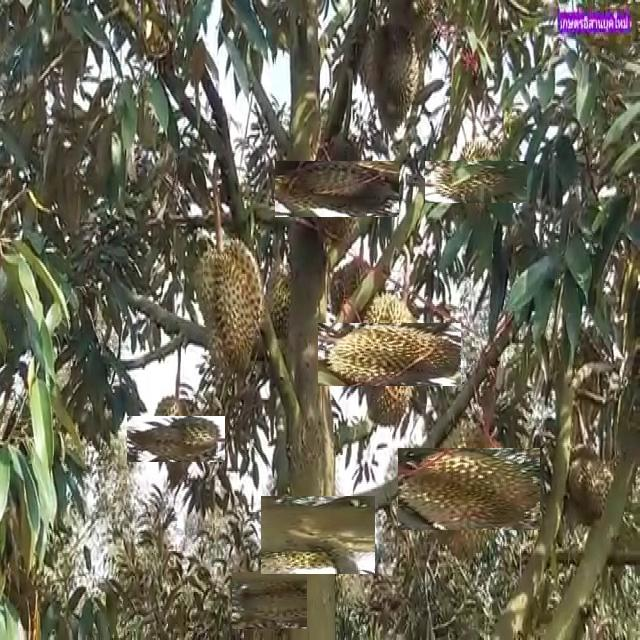durian: (413, 433, 526, 545), (192, 233, 264, 384), (338, 303, 441, 406), (270, 487, 366, 584), (292, 144, 382, 235), (360, 21, 423, 140), (140, 403, 212, 476), (440, 146, 513, 218), (237, 567, 303, 634)
